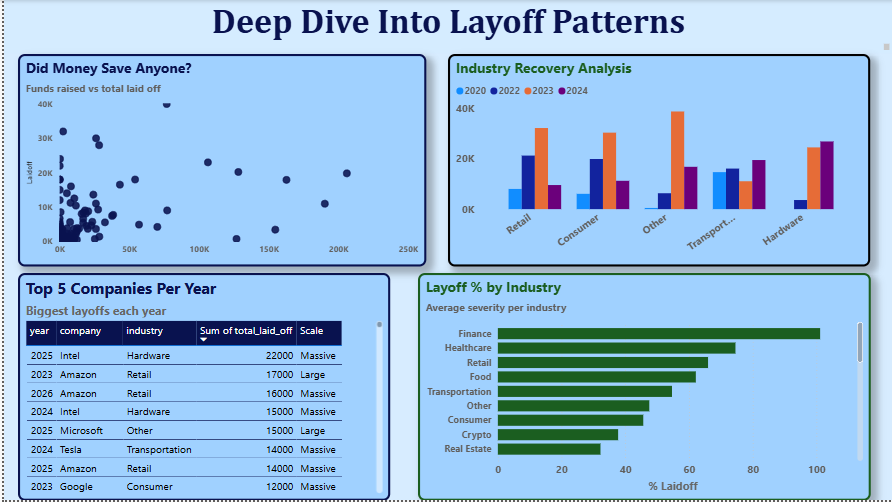

The dashboard page shown, as its layout file describes it:
{"tool":"powerbi","page":{"name":"Deep Dive Into Layoff Patterns","canvas":[1280,720],"ordinal":3},"visuals":[{"type":"textbox","title":"Deep Dive Into Layoff Patterns","box":[0,0,1280,77.3],"z":0},{"type":"scatterChart","title":"Did Money Save Anyone?","fields":{"X":["Sum(public layoffs.funds_raised)"],"Y":["Sum(public layoffs.total_laid_off)"],"Category":["public layoffs.total_laid_off"]},"box":[20.2,77.3,587.9,305.7],"z":1000},{"type":"clusteredColumnChart","title":"Industry Recovery Analysis","fields":{"Category":["public layoffs.industry"],"Y":["Sum(public layoffs.total_laid_off)"],"Series":["public layoffs.year"]},"box":[640,77.3,608.1,305.7],"z":2000},{"type":"tableEx","title":"Top 5 Companies Per Year","fields":{"Values":["public layoffs.year","public layoffs.company","public layoffs.industry","Sum(public layoffs.total_laid_off)","public layoffs.Scale"]},"box":[20.2,393.1,535.9,327.6],"z":3000},{"type":"clusteredBarChart","title":"Layoff % by Industry","fields":{"Category":["public layoffs.industry"],"Y":["Sum(public layoffs.percentage_laid_off)"]},"box":[596.3,393.1,651.8,327.6],"z":3001}]}

Visuals, with their boxes in screenshot pixels (x1, y1, x2, y2), scaled from the page's 1280x720 canvas onto the 892x502 screenshot:
"Deep Dive Into Layoff Patterns" textbox: region(0, 0, 891, 54)
"Did Money Save Anyone?" scatterChart: region(14, 54, 424, 267)
"Industry Recovery Analysis" clusteredColumnChart: region(446, 54, 870, 267)
"Top 5 Companies Per Year" tableEx: region(14, 274, 388, 501)
"Layoff % by Industry" clusteredBarChart: region(416, 274, 870, 501)
